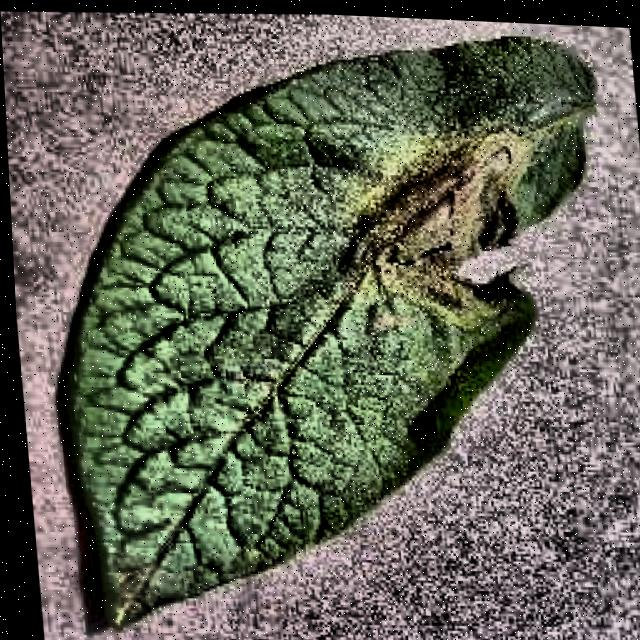Potato_leaf_late_blight: (57, 25, 606, 640)
